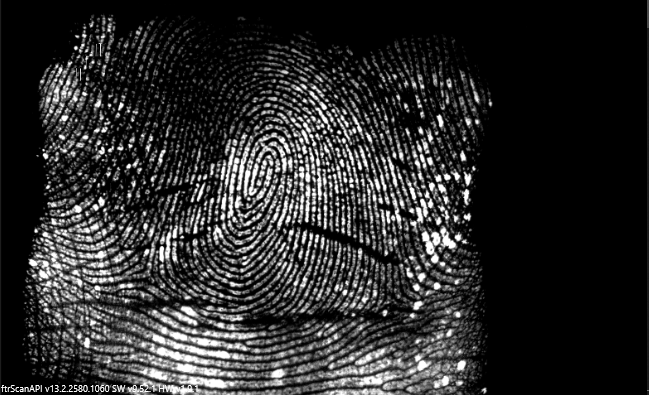nucelo: (237, 143, 277, 194)
verticilo: (131, 260, 164, 289), (375, 286, 404, 312)
